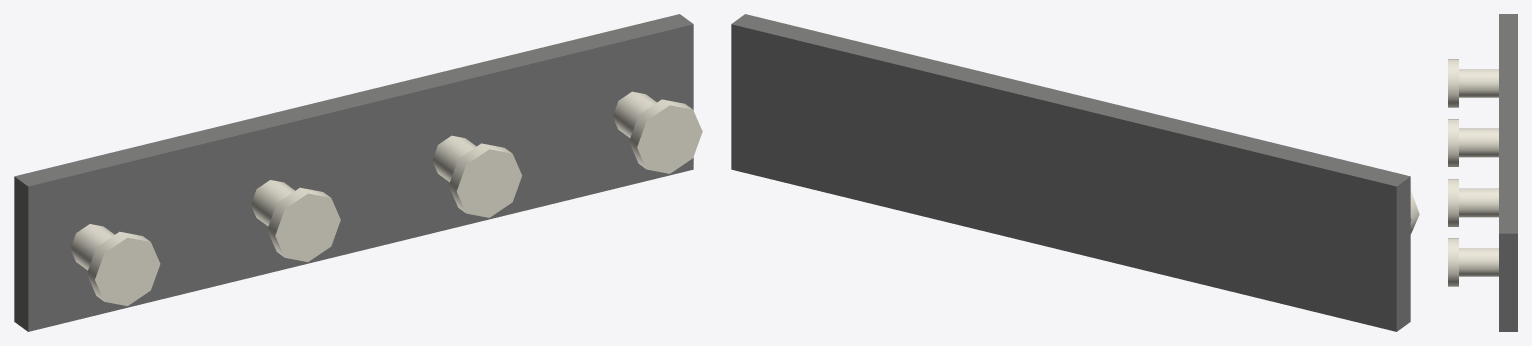
Rendered from 15_prop_hanger.FBX.
The picture shows the model from 3 angles, left to right: view 1: azimuth 30°, elevation 25°; view 2: azimuth 150°, elevation 25°; view 3: azimuth 270°, elevation 25°; orthographic projection. The views are drawn at different scales.
Visible parts, largest first — view 1: prop_hanger; view 2: prop_hanger; view 3: prop_hanger.
Part boxes in pixels (x1,y1,x2,y2): prop_hanger: [14, 14, 702, 331]; prop_hanger: [731, 14, 1419, 331]; prop_hanger: [1448, 14, 1517, 331].
Size of the model in its own units: 39.01 by 8.14 by 5.25.
